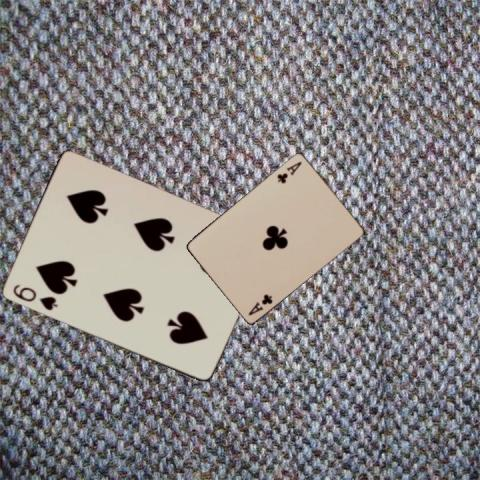6s: (9, 281, 60, 312)
Ac: (274, 158, 303, 185), (245, 290, 274, 316)
